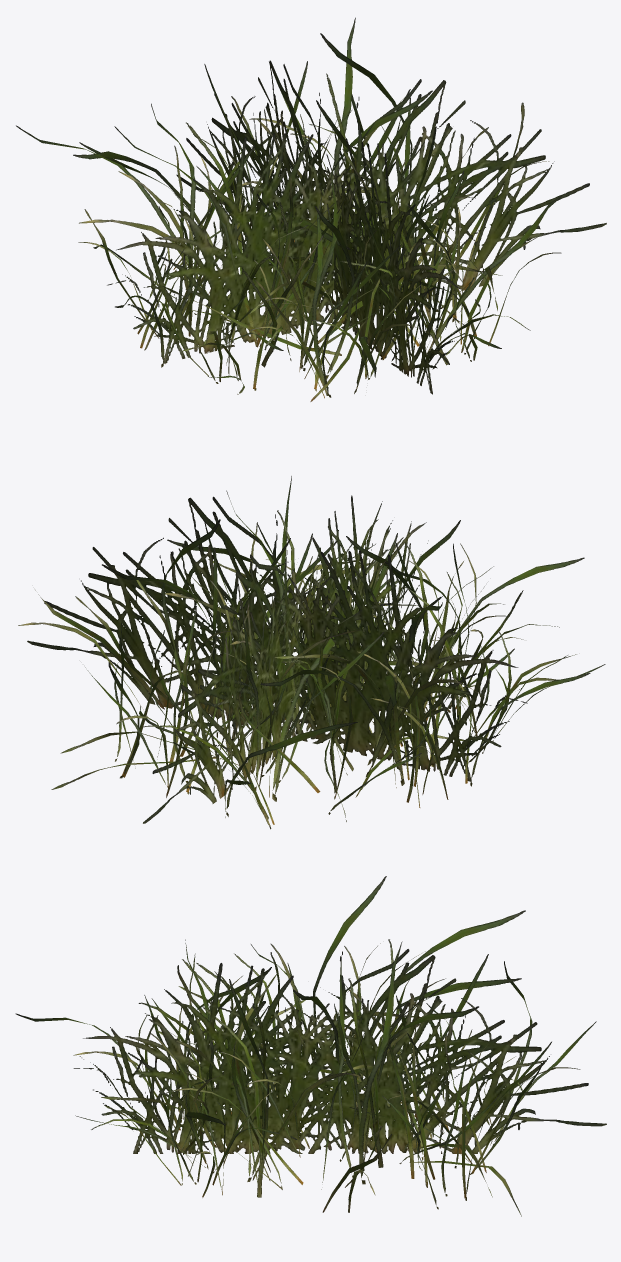
Rendered from grass_medium_01_large_a_LOD1.glb.
3 renders of one model, top to bottom at view 1: azimuth 30°, elevation 25°; view 2: azimuth 150°, elevation 25°; view 3: azimuth 270°, elevation 25°, orthographic. The views are drawn at different scales.
Parts seen in each view (by area): view 1: grass_medium_01_large_a_LOD1__lod0; view 2: grass_medium_01_large_a_LOD1__lod0; view 3: grass_medium_01_large_a_LOD1__lod0.
Boxes of the visible parts, <box> form: grass_medium_01_large_a_LOD1__lod0: <box>16,17,606,401</box>; grass_medium_01_large_a_LOD1__lod0: <box>18,476,605,829</box>; grass_medium_01_large_a_LOD1__lod0: <box>15,876,606,1216</box>.
Size of what is drawn, in the model's own units: 0.327 by 0.1449 by 0.3317.
1 material, 1 textured.
